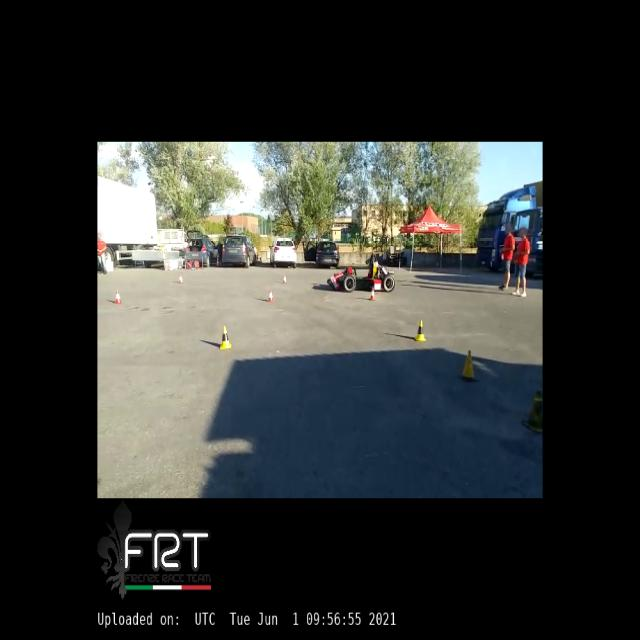orange_cone: (114, 290, 123, 304), (267, 288, 274, 302), (369, 288, 376, 300), (280, 274, 287, 284), (178, 274, 185, 284)
unknown_cone: (522, 389, 542, 433), (458, 351, 478, 382)
yellow_cone: (220, 326, 231, 348), (414, 320, 426, 340)
